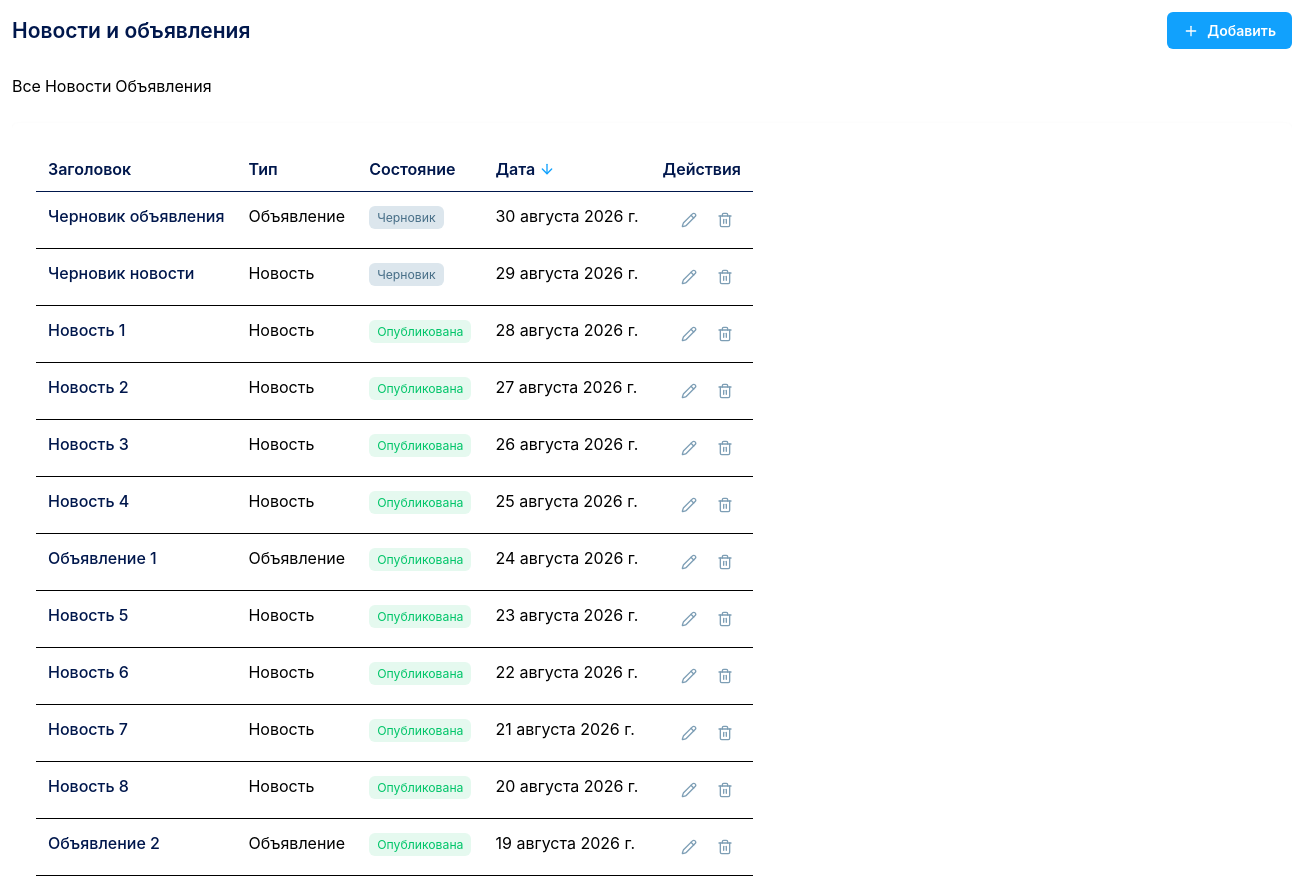
Scenario: AdminNewsPage, список › переключает тип записи ссылкой фильтра
This screenshot has width=1304, height=889.
expect the cell "Новость 1" is shown: met, box top-left (36, 306), bottom-right (236, 362)
Click the link "Объявления".
click(164, 86)  # box top-left (115, 76), bottom-right (212, 96)
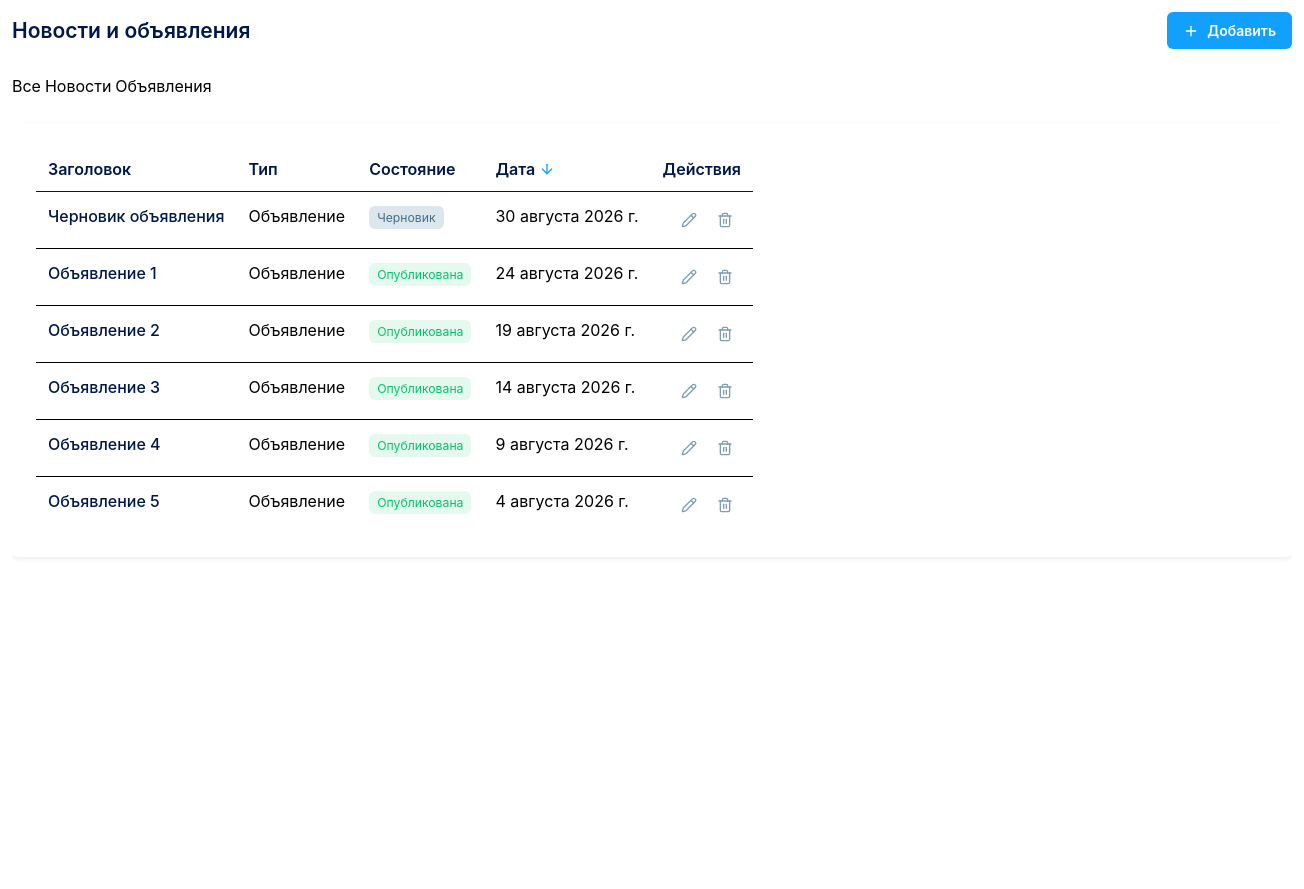
expect the cell "Объявление 5" is shown: met, box top-left (36, 476), bottom-right (236, 533)
expect the text "Новость 1" is gone: met
